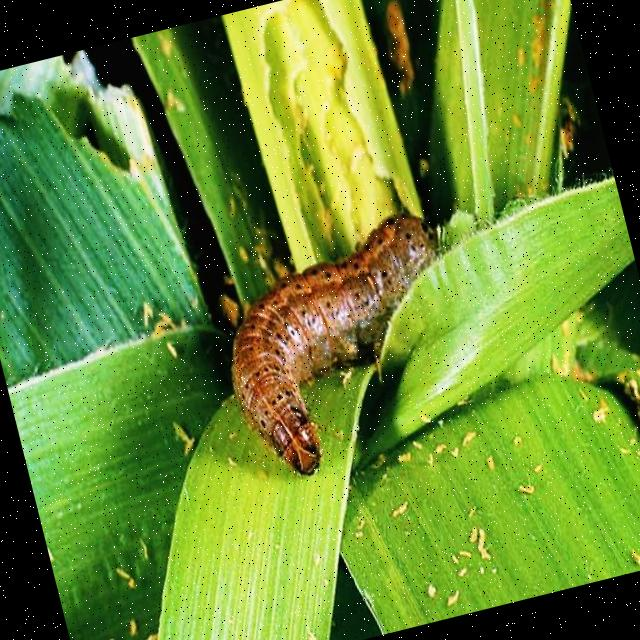worm: (200, 204, 487, 490)
